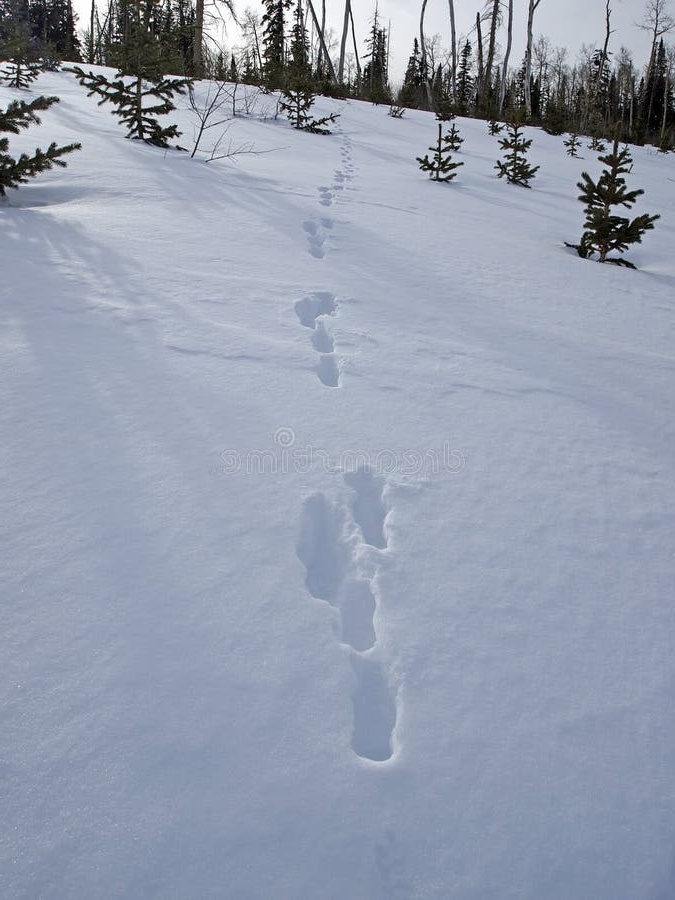rabbit: (239, 453, 441, 804), (266, 278, 363, 409)
